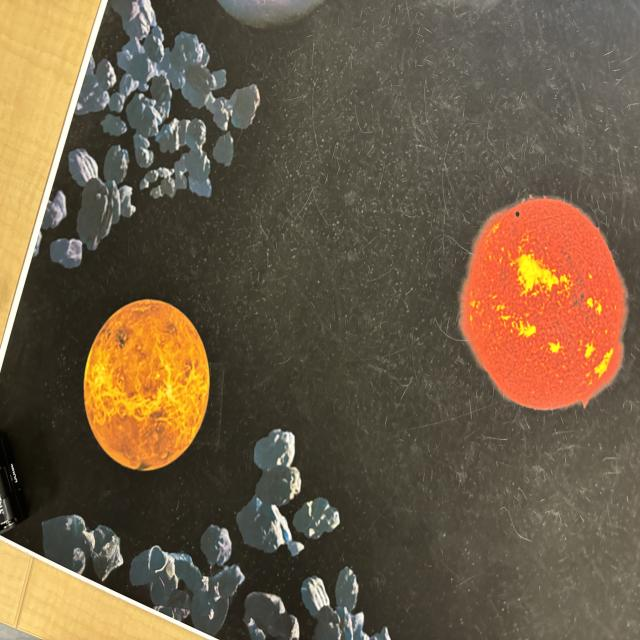Asteroids: (48, 0, 248, 260), (197, 427, 381, 640)
Sun: (459, 193, 631, 414)
Venus: (81, 296, 212, 471)
